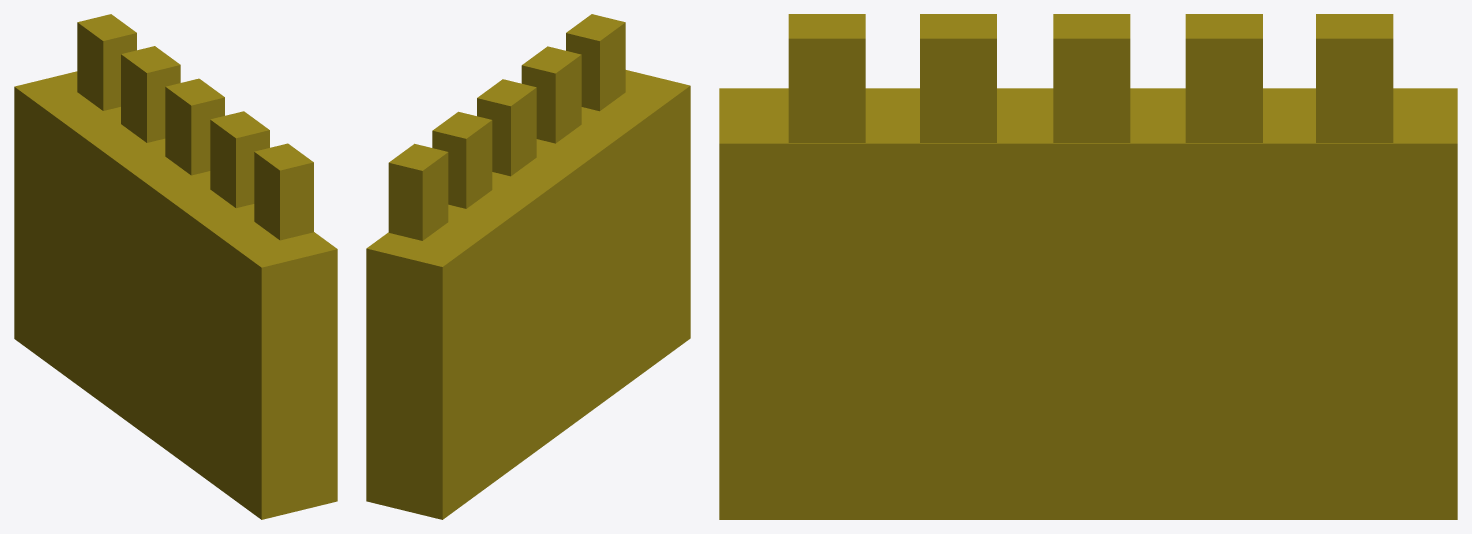
Rendered from wall1.obj.
The picture shows the model from 3 angles, left to right: view 1: azimuth 30°, elevation 25°; view 2: azimuth 150°, elevation 25°; view 3: azimuth 270°, elevation 25°; orthographic projection. The views are drawn at different scales.
Parts seen in each view (by area): view 1: Cube, Cube.005, Cube.003, Cube.002, Cube.004, Cube.001; view 2: Cube, Cube.001, Cube.004, Cube.002, Cube.003, Cube.005; view 3: Cube, Cube.001, Cube.002, Cube.003, Cube.005, Cube.004.
Part boxes in pixels (left/top/right/bottom): Cube: left=14, top=71, right=337, bottom=519; Cube.005: left=254, top=143, right=313, bottom=240; Cube.003: left=165, top=78, right=224, bottom=175; Cube.002: left=121, top=46, right=180, bottom=142; Cube.004: left=210, top=111, right=269, bottom=208; Cube.001: left=77, top=14, right=136, bottom=110; Cube: left=366, top=70, right=690, bottom=519; Cube.001: left=388, top=143, right=448, bottom=240; Cube.004: left=521, top=46, right=581, bottom=143; Cube.002: left=432, top=111, right=492, bottom=208; Cube.003: left=477, top=79, right=536, bottom=176; Cube.005: left=566, top=14, right=625, bottom=111; Cube: left=719, top=88, right=1457, bottom=519; Cube.001: left=1316, top=14, right=1393, bottom=142; Cube.002: left=1185, top=14, right=1262, bottom=142; Cube.003: left=1053, top=14, right=1130, bottom=142; Cube.005: left=788, top=14, right=865, bottom=142; Cube.004: left=920, top=14, right=996, bottom=142.
Size of the model in its own units: 1.5 by 6.09 by 8.47.
